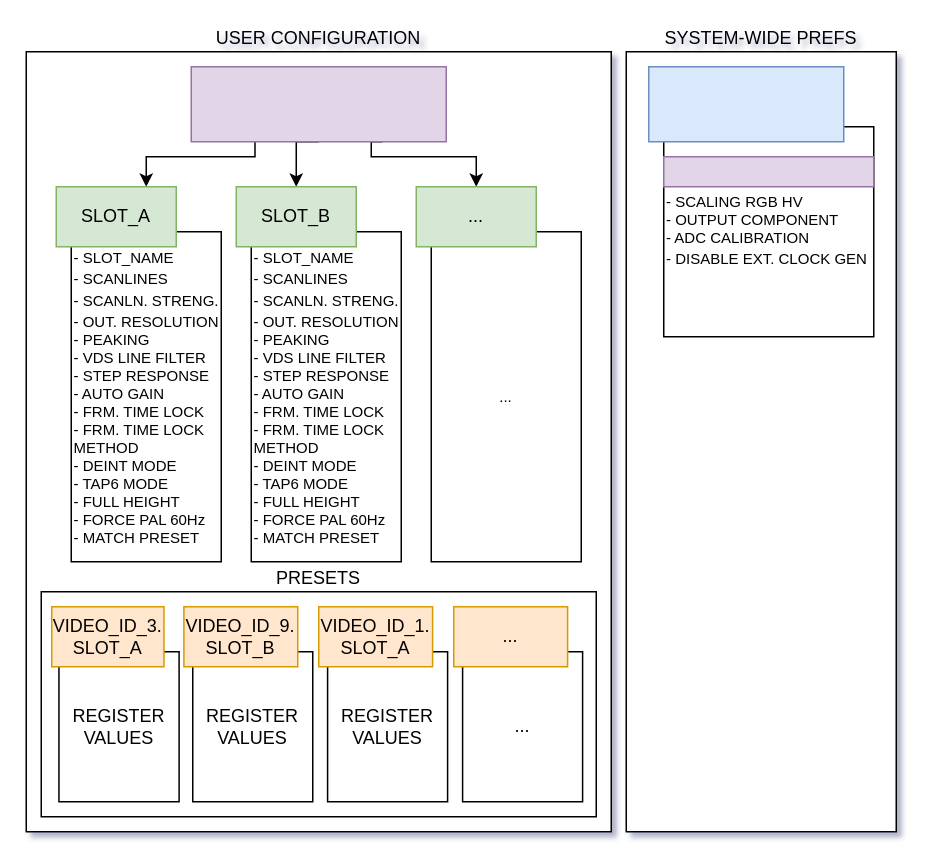
Image size: 932x867. Some labels were removed from this diagram. The centre of each missing label's shape, as x and y in pixels:
- ACTIVE SLOT: the point at 768,171
PREFS.DAT: the point at 745,103
SLOTS.BIN: the point at 318,103
